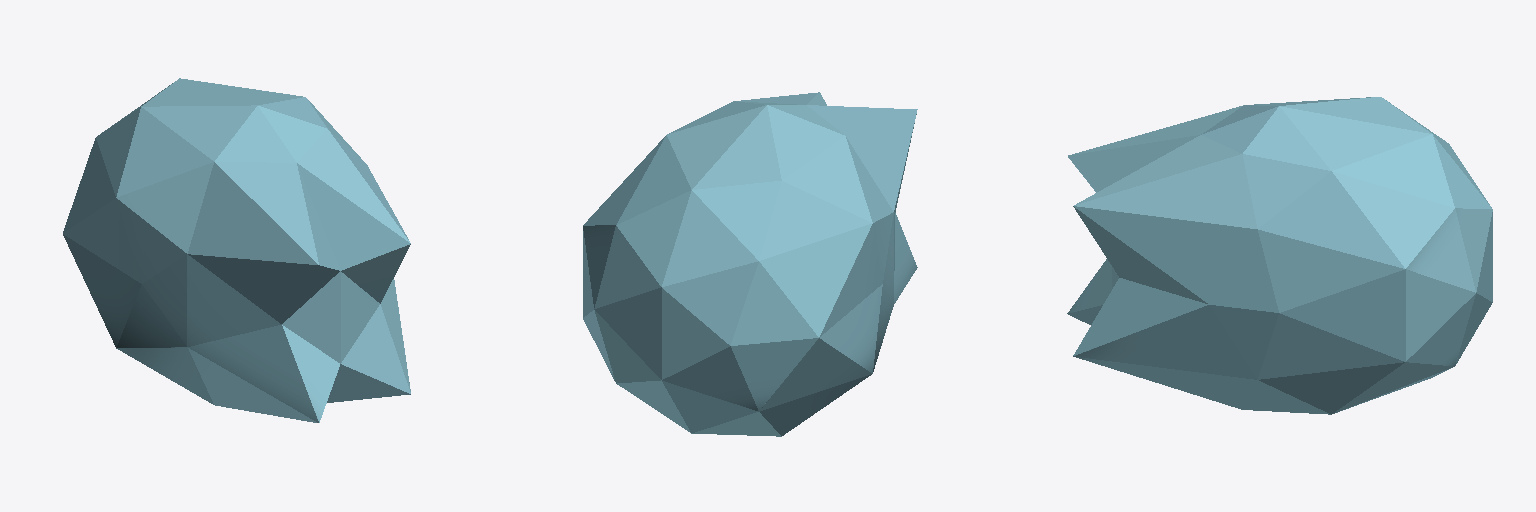
The picture shows the model from 3 angles: view 1: azimuth 30°, elevation 25°; view 2: azimuth 150°, elevation 25°; view 3: azimuth 270°, elevation 25°; orthographic projection.
Parts seen in each view (by area): view 1: ICO球; view 2: ICO球; view 3: ICO球.
Part boxes in pixels (x1,y1,x2,y2): ICO球: (63,78,410,422); ICO球: (583,92,917,436); ICO球: (1067,97,1492,414).
Bounding box in the file's own units: 1.7 × 2 × 2.56.
Materials: 1 (1 with a texture image).